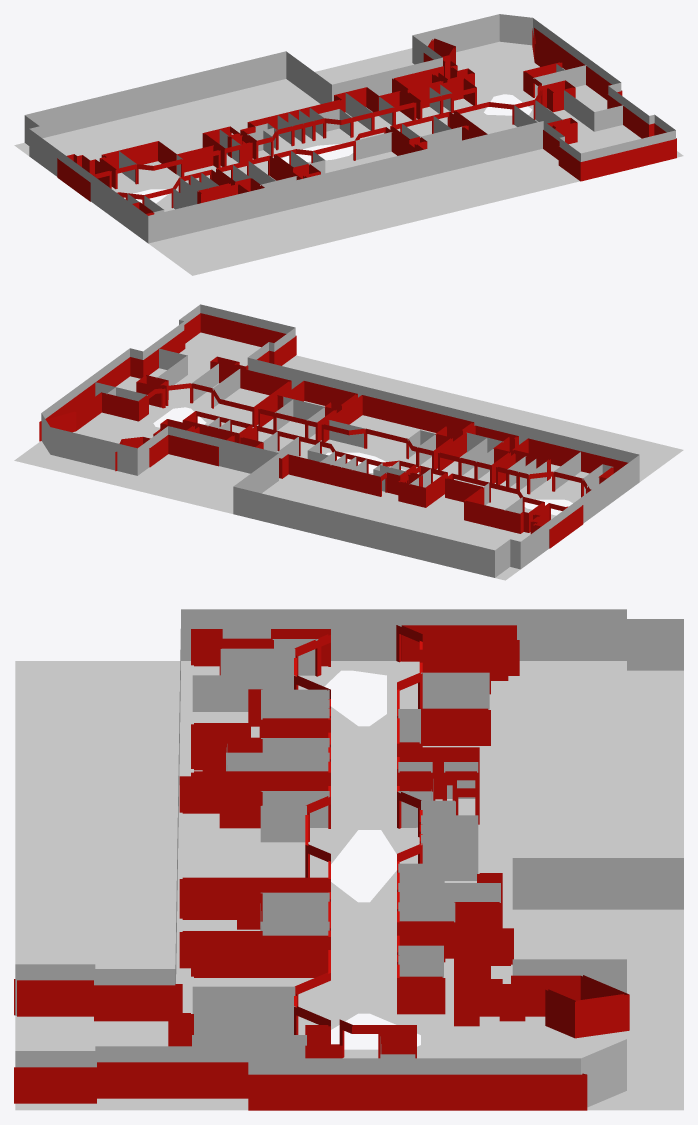
File: DSFDMap_3f.fbx
3 renders of one model, top to bottom at view 1: azimuth 30°, elevation 25°; view 2: azimuth 150°, elevation 25°; view 3: azimuth 270°, elevation 25°, orthographic. The views are drawn at different scales.
Visible parts, largest first — view 1: 3fFloor, 3f_outLine, 3f_frame, 3f_wall; view 2: 3f_frame, 3fFloor, 3f_outLine, 3f_wall; view 3: 3fFloor, 3f_frame, 3f_outLine, 3f_wall.
Part boxes in pixels (x1,y1,x2,y2): 3fFloor: (14, 41, 683, 275); 3f_outLine: (24, 14, 675, 243); 3f_frame: (57, 28, 676, 215); 3f_wall: (119, 64, 623, 214); 3f_frame: (39, 313, 627, 548); 3fFloor: (14, 332, 683, 580); 3f_outLine: (41, 304, 639, 577); 3f_wall: (94, 348, 613, 513); 3fFloor: (15, 661, 683, 1110); 3f_frame: (14, 625, 629, 1110); 3f_outLine: (15, 609, 683, 1107); 3f_wall: (192, 639, 500, 1058).
Bounding box in the file's own units: 18650 × 1000 × 11725.
